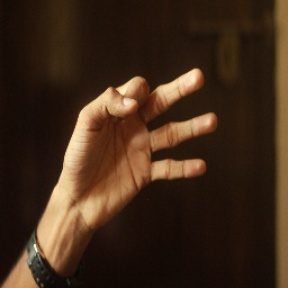K: (62, 67, 214, 215)
